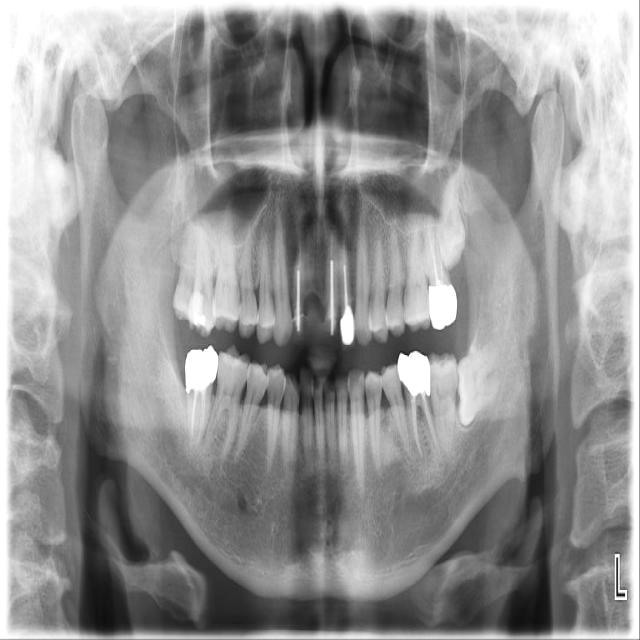Crown: (397, 349, 431, 397), (429, 281, 458, 329), (185, 344, 218, 386), (339, 306, 355, 348)
Filling: (188, 289, 217, 339), (436, 371, 455, 404), (323, 314, 339, 343), (292, 314, 303, 343)
Root Canal Treatment: (421, 394, 437, 449), (427, 227, 439, 284), (412, 397, 421, 457), (195, 392, 206, 437), (295, 265, 301, 330), (330, 261, 335, 336), (342, 263, 349, 306), (191, 393, 196, 433), (439, 255, 442, 281)
